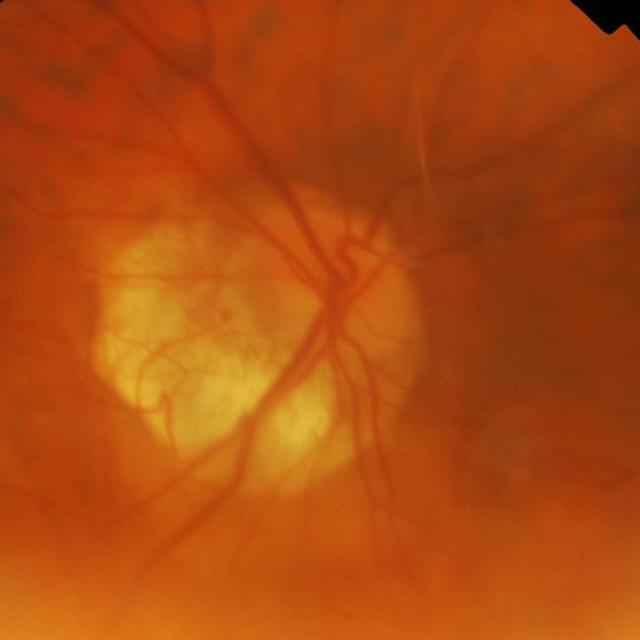OC: (274, 282, 344, 330)
OD: (233, 209, 416, 373)
